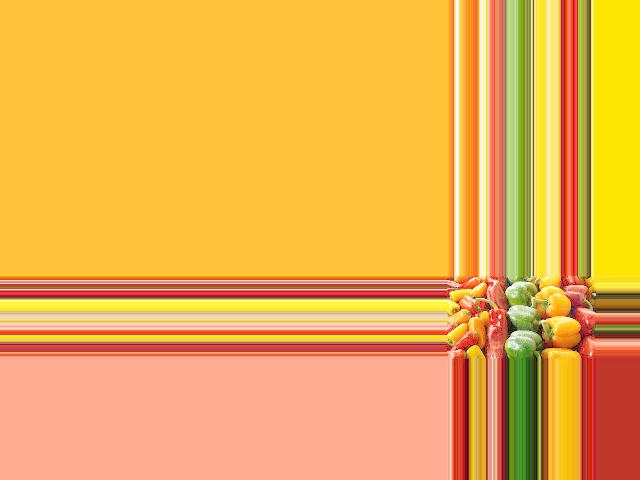bell_pepper: (451, 330, 478, 352)
